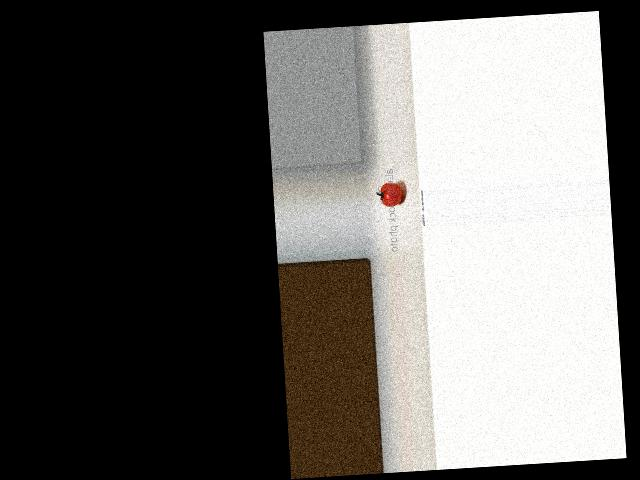tomato: (379, 182, 403, 207)
